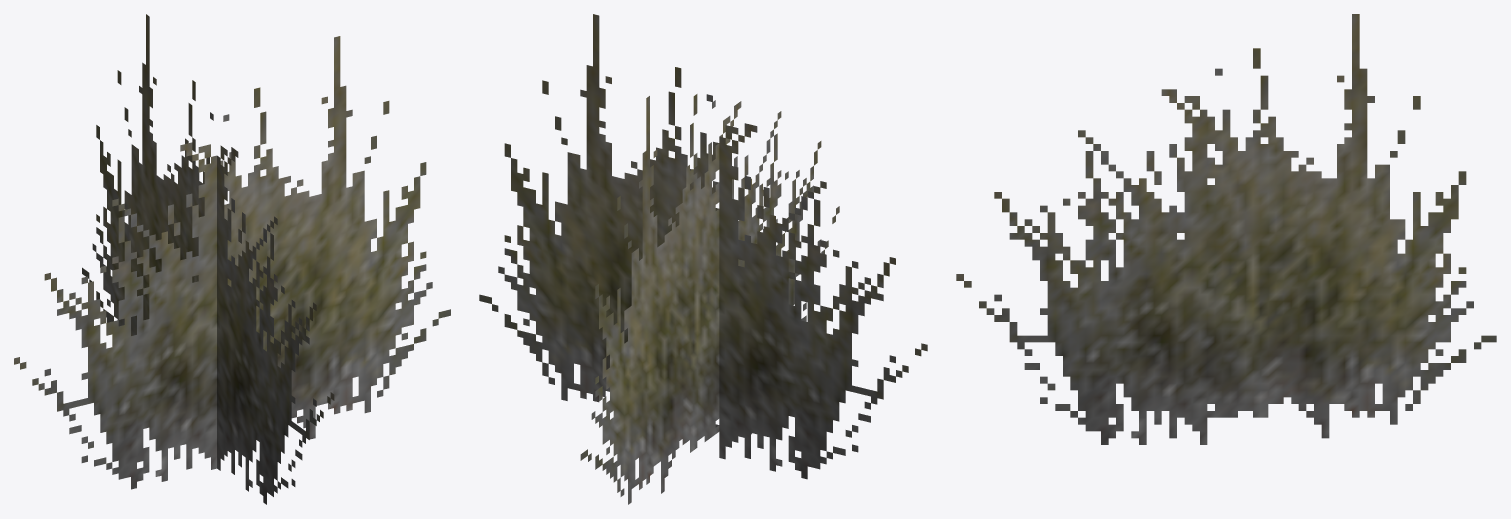
The model's file is pastizal.glb.
3 views of the same model, side by side, from view 1: azimuth 30°, elevation 25°; view 2: azimuth 150°, elevation 25°; view 3: azimuth 270°, elevation 25° (orthographic). The views are drawn at different scales.
Visible parts, largest first — view 1: sprite_5; view 2: sprite_5; view 3: sprite_5.
Part boxes in pixels (left/top/right/bottom): sprite_5: left=14, top=14, right=450, bottom=504; sprite_5: left=479, top=14, right=927, bottom=504; sprite_5: left=956, top=14, right=1496, bottom=444.
Bounding box in the file's own units: 0.994 × 0.875 × 0.994.
